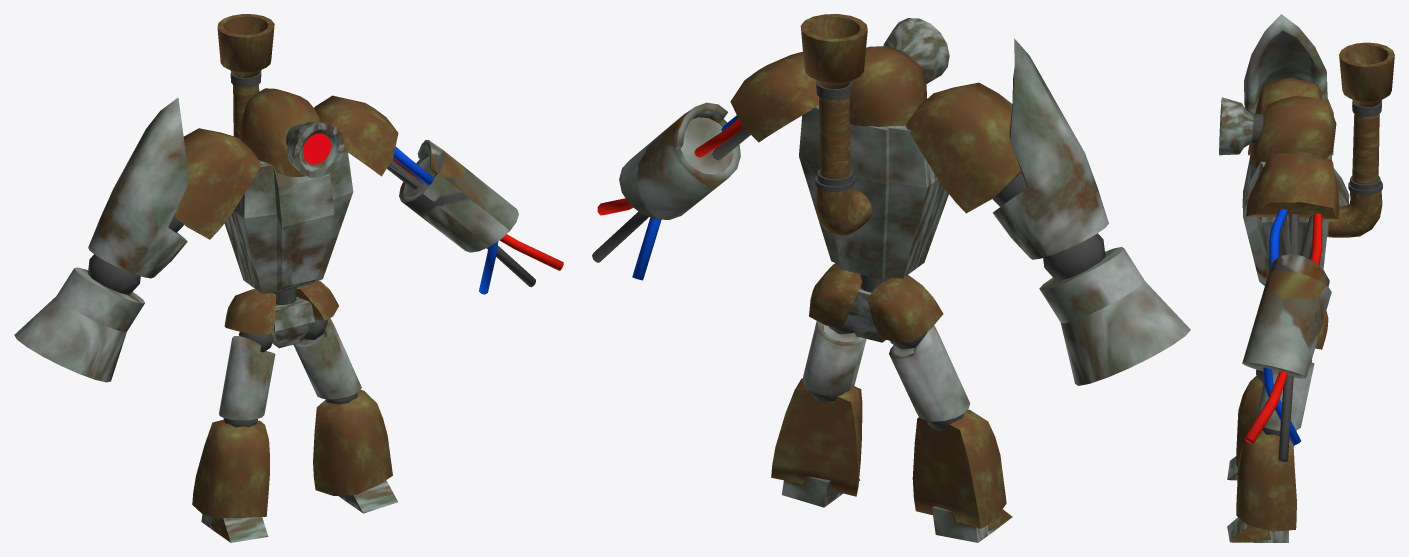
Rendered from gunner.fbx.
The picture shows the model from 3 angles, left to right: view 1: azimuth 30°, elevation 25°; view 2: azimuth 150°, elevation 25°; view 3: azimuth 270°, elevation 25°; orthographic projection. The views are drawn at different scales.
Visible parts, largest first — view 1: Gunner; view 2: Gunner; view 3: Gunner.
Boxes of the visible parts, x1=… form: Gunner: x1=14, y1=14, x2=563, y2=542; Gunner: x1=592, y1=14, x2=1190, y2=542; Gunner: x1=1219, y1=14, x2=1394, y2=542.
Bounding box in the file's own units: 2.5 × 2.07 × 0.7353.
